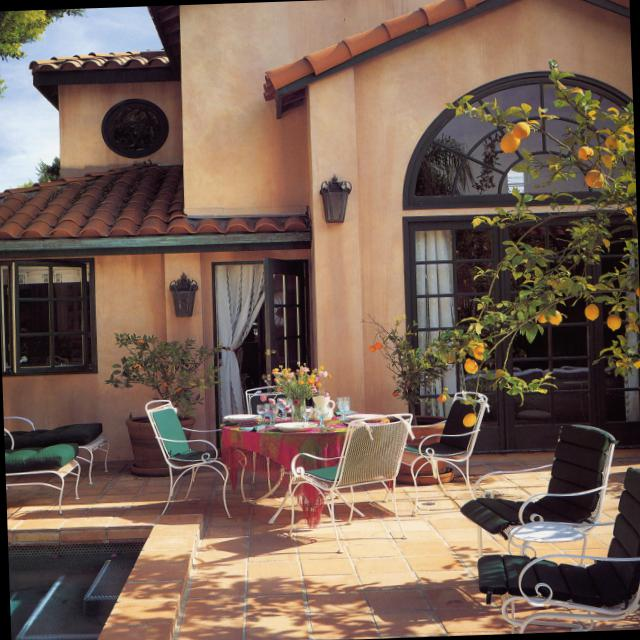2001: (0, 254, 91, 368)
chair -occluded-: (453, 418, 612, 542)
